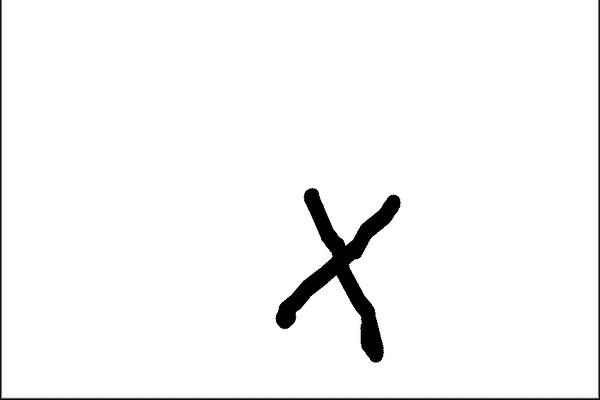X: (247, 162, 427, 386)
